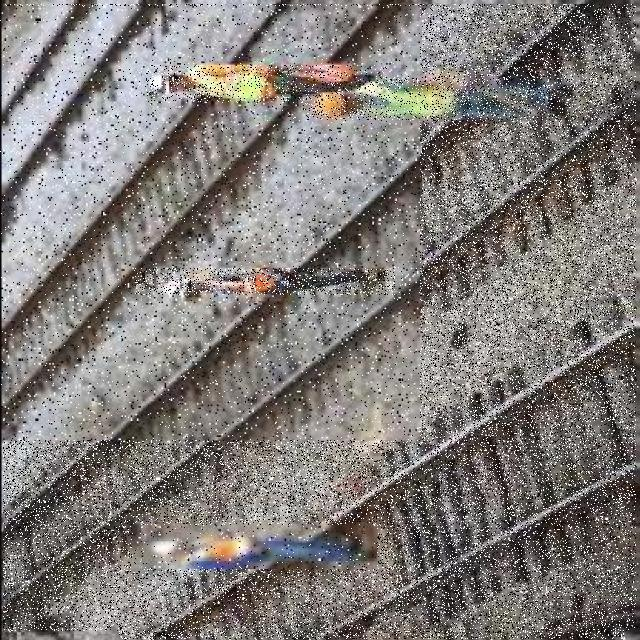danger: (132, 525, 377, 569), (303, 78, 548, 120), (146, 65, 388, 103), (136, 268, 396, 295)
rail: (4, 4, 636, 631), (0, 6, 420, 440), (120, 291, 625, 639)
